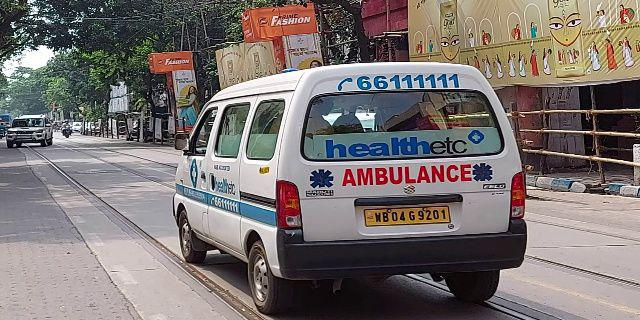Car: (4, 113, 58, 150)
Van: (170, 57, 538, 311)
